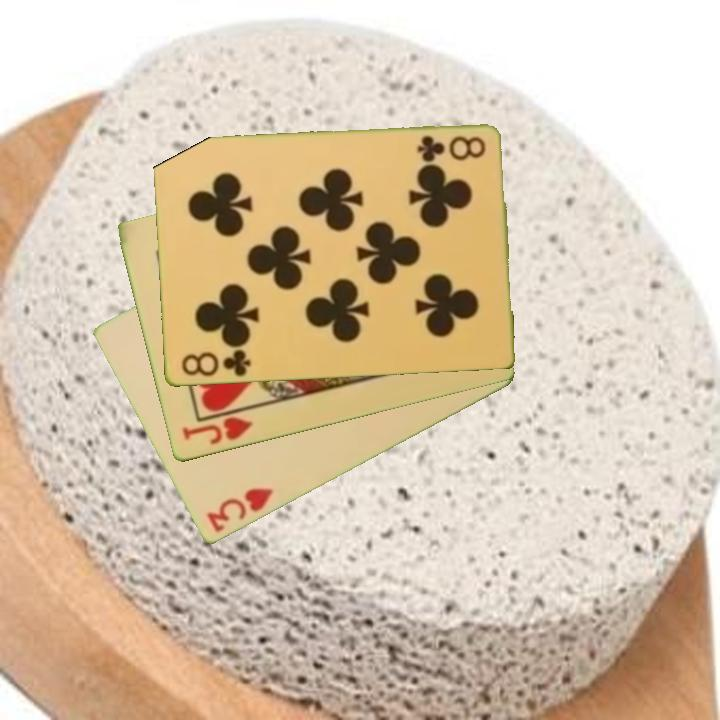3h: (203, 485, 276, 536)
8c: (177, 346, 254, 380), (413, 132, 488, 164)
Jh: (178, 405, 258, 448)
